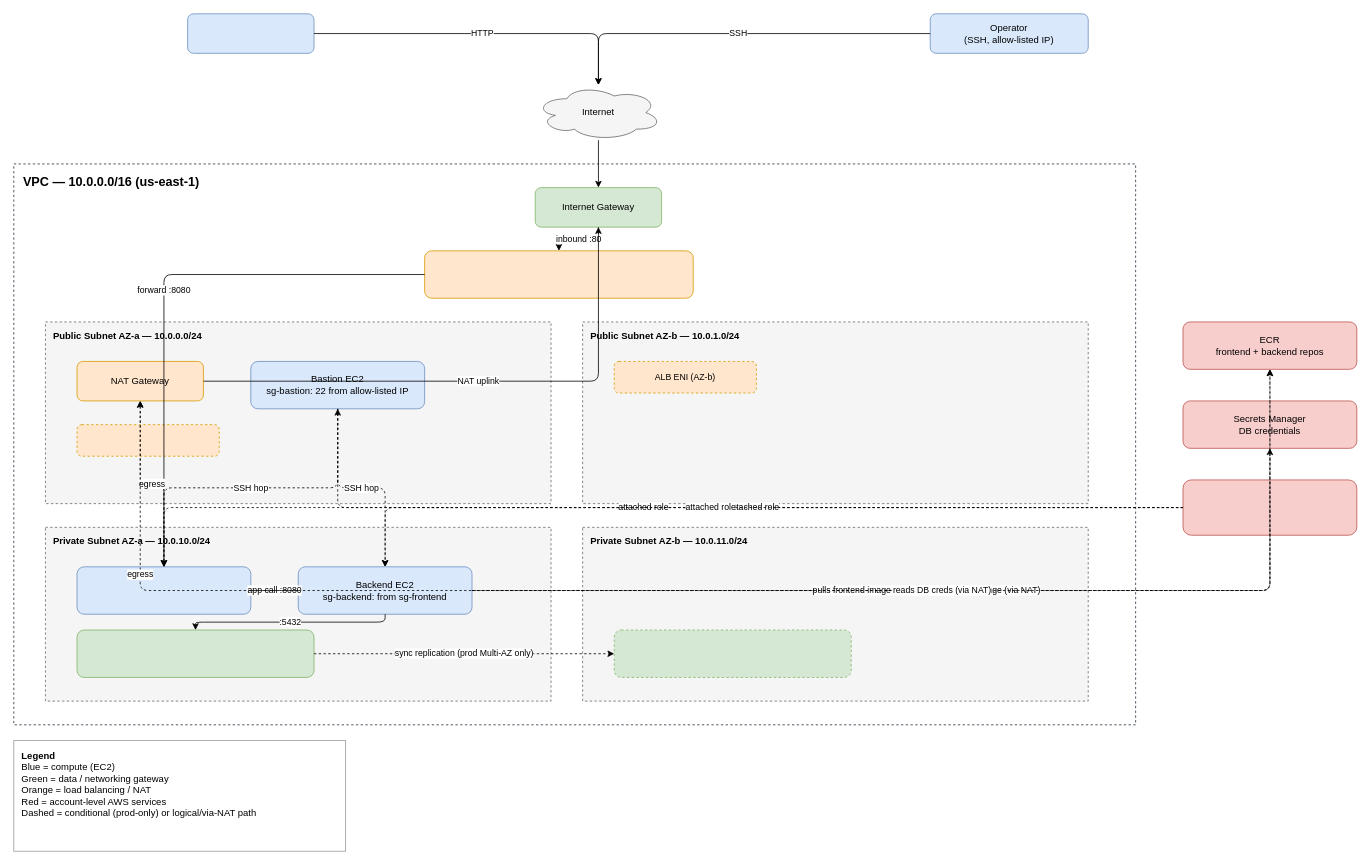
This 1371x865 diagram has some shape labels left out. The box of each missing label's shape, as (x1, y1, x2, y2) in pixels:
ALB ENI (AZ-a): (76, 424, 219, 456)
Application Load Balancer (ALB) HTTP :80 — spans both public subnets: (424, 250, 693, 298)
End User (browser): (187, 13, 314, 53)
Frontend EC2 sg-frontend: from sg-alb: (76, 566, 251, 614)
IAM Instance Profiles frontend / backend / bastion: (1182, 479, 1357, 535)
RDS PostgreSQL — Primary sg-rds: from sg-backend: (76, 629, 314, 677)
RDS PostgreSQL — Standby (Multi-AZ — prod only): (613, 629, 851, 677)
